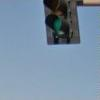traffic lights: (42, 0, 82, 45)
